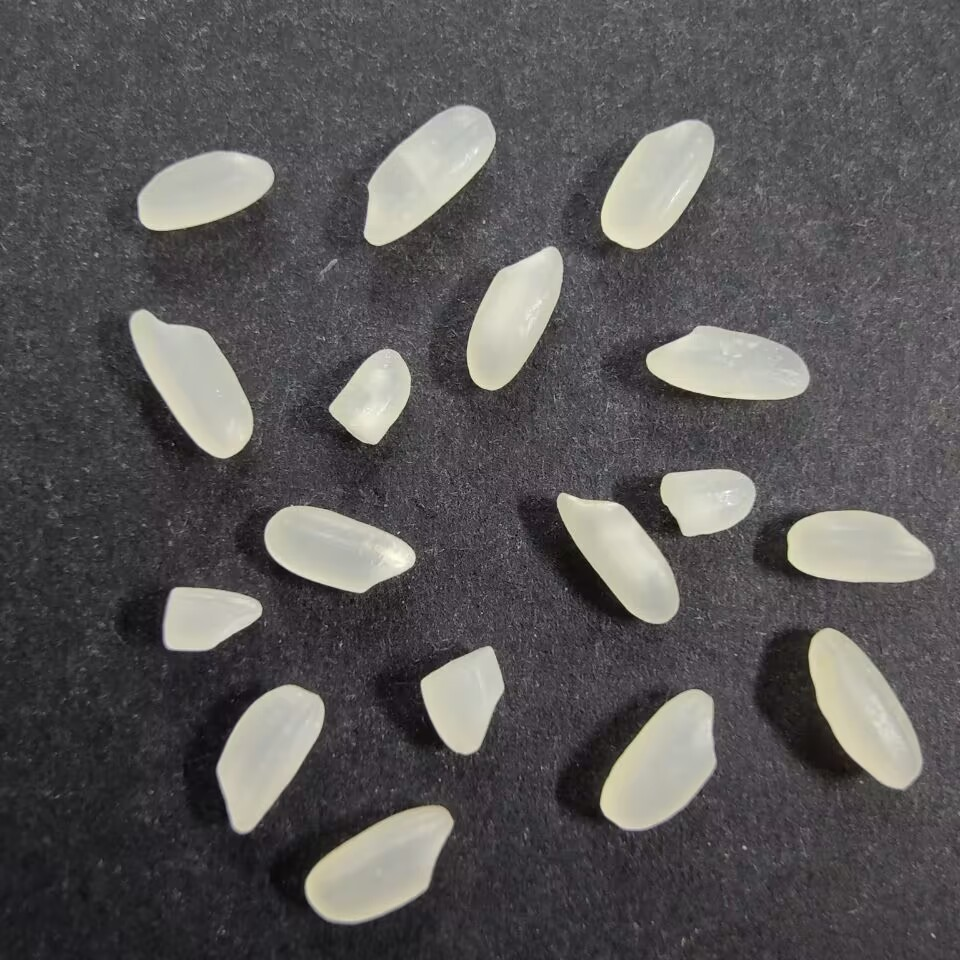broken: (414, 643, 508, 761), (325, 346, 415, 449), (159, 582, 266, 658), (660, 466, 758, 537)
rice: (804, 624, 927, 793), (358, 103, 500, 248), (125, 307, 255, 459), (594, 686, 723, 835), (303, 801, 453, 928), (551, 488, 685, 628), (212, 680, 329, 839), (599, 116, 716, 251), (462, 243, 566, 394), (261, 501, 417, 597), (639, 320, 813, 404), (134, 146, 279, 237), (783, 506, 939, 588)
